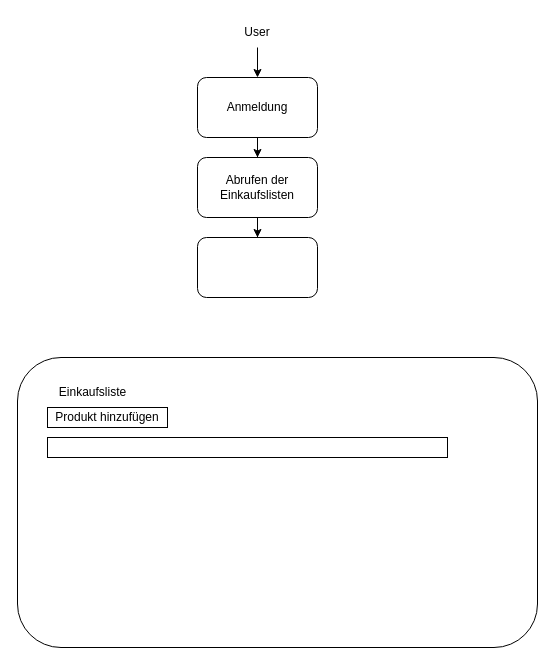
The diagram is 555 pixels wide and 665 high, and some of its shapes have lost their labels. The box of each missing label's shape, as (x1, y1, x2, y2) in pixels:
Produkt Marke Menge Marke: (46, 436, 448, 458)
Produkte hinzufügen/entfernen oder als gekauftmarkieren, kommentieren: (196, 236, 318, 298)
